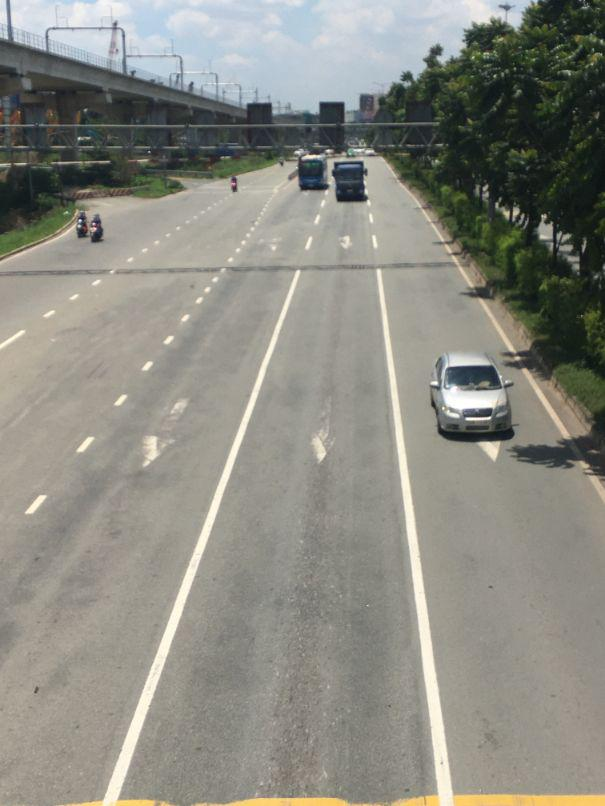bus: (299, 154, 327, 192)
car: (430, 351, 517, 438)
motorbike: (90, 213, 102, 241)
truck: (334, 159, 368, 201)
